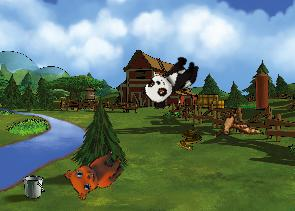bear: (59, 137, 129, 206)
eagle: (208, 101, 264, 150)
panda: (138, 49, 204, 112)
